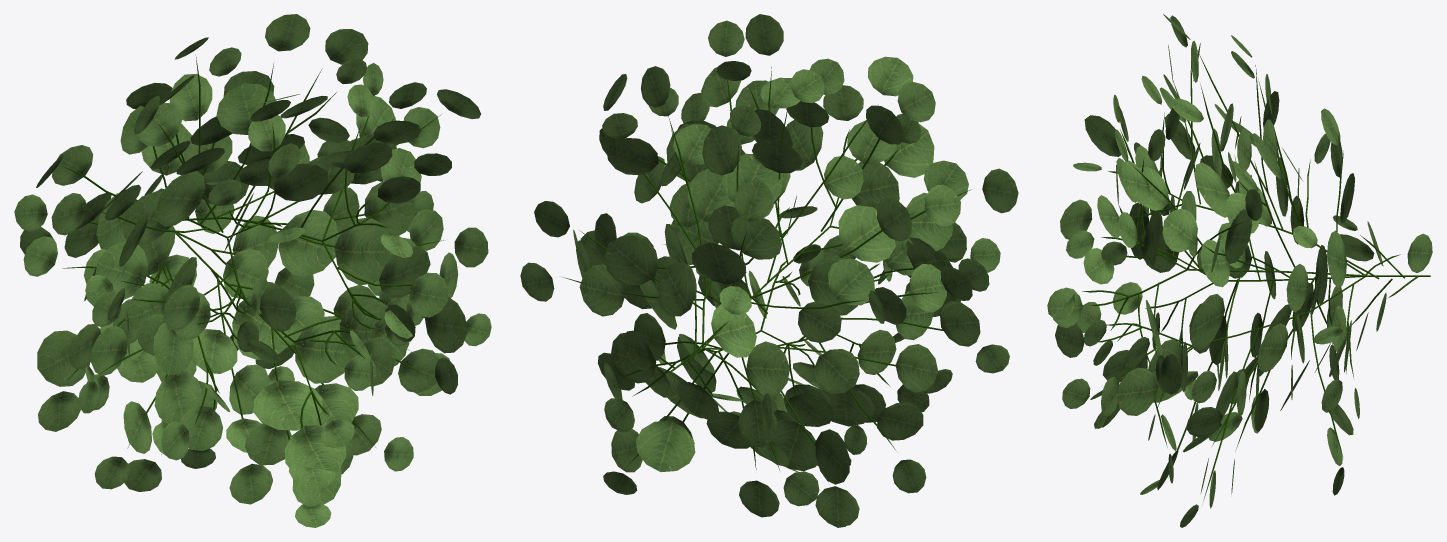
The model's file is plant32.obj.
3 views of the same model, side by side, from view 1: azimuth 30°, elevation 25°; view 2: azimuth 150°, elevation 25°; view 3: azimuth 270°, elevation 25° (orthographic). The views are drawn at different scales.
Parts seen in each view (by area): view 1: leaves.013, tree.013; view 2: leaves.013, tree.013; view 3: leaves.013, tree.013.
Part boxes in pixels (x1,y1,x2,y2): leaves.013: (14,14,491,527); tree.013: (62,54,445,454); leaves.013: (520,14,1018,527); tree.013: (562,67,971,470); leaves.013: (1047,14,1432,527); tree.013: (1082,50,1430,501).
Size of the model in its own units: 0.5696 by 0.6076 by 0.4633.
Materials: 2 (2 with a texture image).
